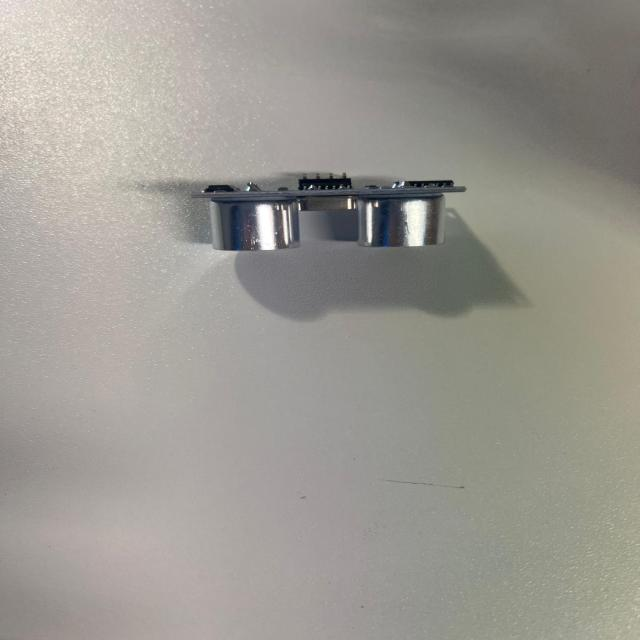UltrasoneSensor: (176, 155, 491, 280)
